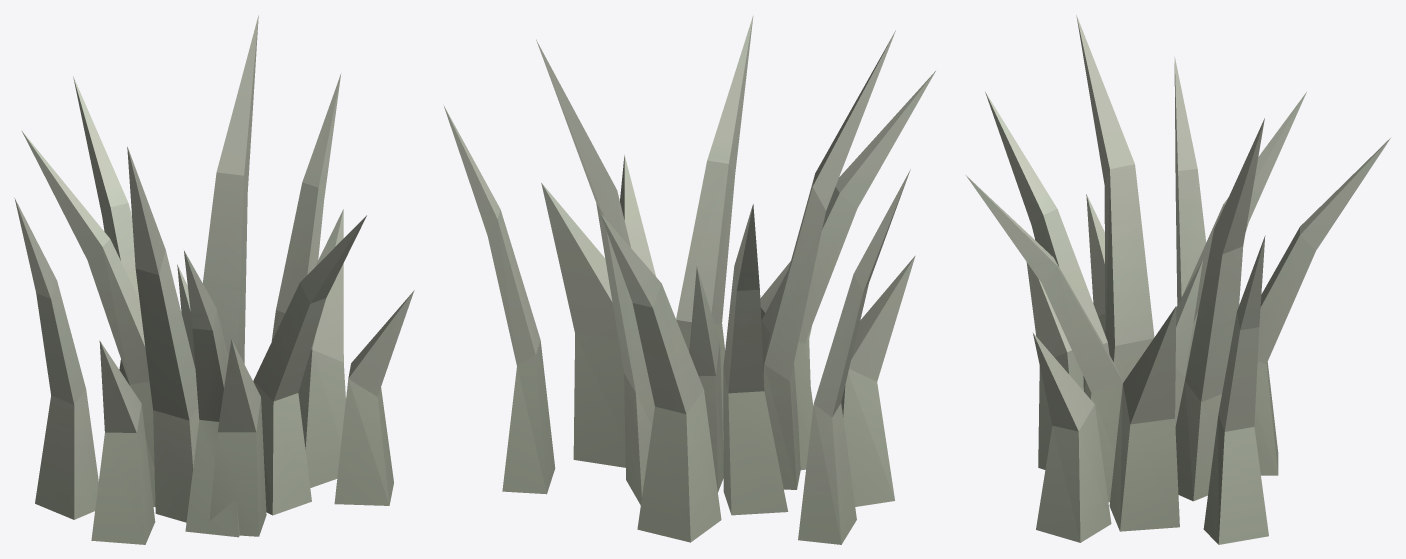
Rendered from grass_tuft.glb.
3 renders of one model, left to right at view 1: azimuth 30°, elevation 25°; view 2: azimuth 150°, elevation 25°; view 3: azimuth 270°, elevation 25°, orthographic. The views are drawn at different scales.
Visible parts, largest first — view 1: grass_tuft; view 2: grass_tuft; view 3: grass_tuft.
Boxes of the visible parts, x1=… form: grass_tuft: x1=14, y1=15, x2=414, y2=544; grass_tuft: x1=443, y1=15, x2=935, y2=544; grass_tuft: x1=966, y1=15, x2=1390, y2=544.
Bounding box in the file's own units: 0.4275 × 0.45 × 0.4292.
Materials: 1 (1 with a texture image).
